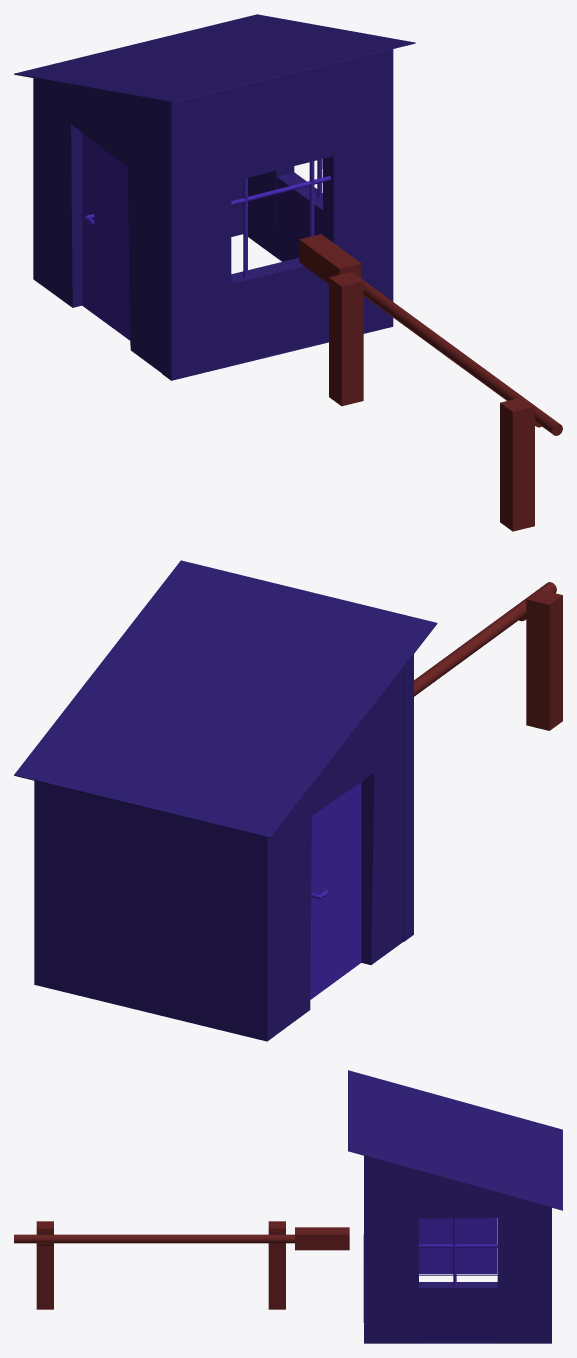
The model's file is Waerterhaus.fbx.
3 renders of one model, top to bottom at view 1: azimuth 30°, elevation 25°; view 2: azimuth 150°, elevation 25°; view 3: azimuth 270°, elevation 25°, orthographic. The views are drawn at different scales.
Visible parts, largest first — view 1: pCube16, pCube6, pCube5, pCube7, pCube9, pCube8, pCylinder5, pCube13, pCube12, pCube2, pCube10; view 2: pCube5, pCube2, pCube6, pCube7, pCube9, pCube16, pCylinder5; view 3: pCube5, pCube12, pCube13, pCube7, pCylinder5, pCube16, pCube9, pCube8, pCube10, pCube2.
Boxes of the visible parts, bbox=[...] form: pCube16: bbox=[162, 49, 393, 380]; pCube6: bbox=[39, 79, 161, 372]; pCube5: bbox=[14, 14, 415, 102]; pCube7: bbox=[82, 133, 130, 340]; pCube9: bbox=[500, 397, 541, 531]; pCube8: bbox=[329, 272, 363, 406]; pCylinder5: bbox=[352, 272, 562, 435]; pCube13: bbox=[276, 172, 322, 261]; pCube12: bbox=[248, 166, 294, 261]; pCube2: bbox=[33, 78, 243, 283]; pCube10: bbox=[299, 234, 361, 283]; pCube5: bbox=[14, 560, 437, 838]; pCube2: bbox=[34, 781, 273, 1041]; pCube6: bbox=[274, 667, 403, 1036]; pCube7: bbox=[310, 782, 361, 999]; pCube9: bbox=[519, 589, 562, 730]; pCube16: bbox=[403, 654, 413, 941]; pCylinder5: bbox=[414, 582, 556, 696]; pCube5: bbox=[348, 1070, 562, 1210]; pCube12: bbox=[377, 1159, 543, 1343]; pCube13: bbox=[419, 1282, 497, 1342]; pCube7: bbox=[419, 1218, 497, 1274]; pCylinder5: bbox=[14, 1234, 294, 1243]; pCube16: bbox=[363, 1156, 376, 1343]; pCube9: bbox=[36, 1221, 53, 1309]; pCube8: bbox=[268, 1221, 285, 1309]; pCube10: bbox=[295, 1227, 349, 1250]; pCube2: bbox=[543, 1205, 551, 1343].
Bounding box in the file's own units: 11 × 12.53 × 31.71.
